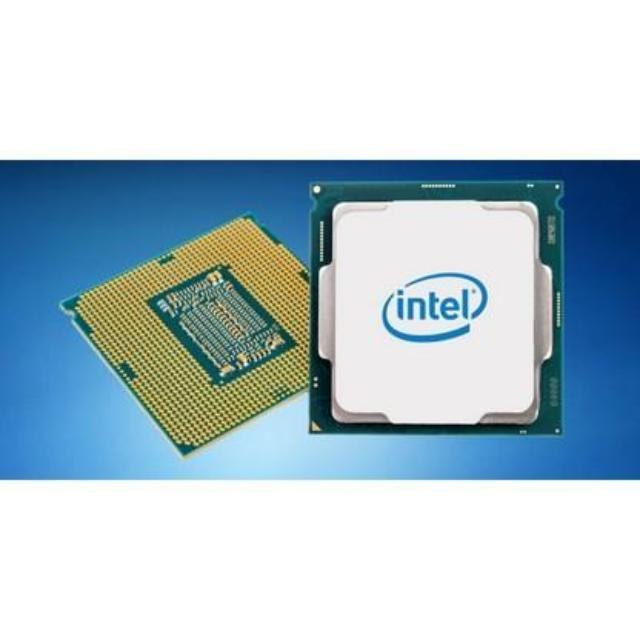CPU: (313, 184, 559, 430), (67, 212, 313, 443)
